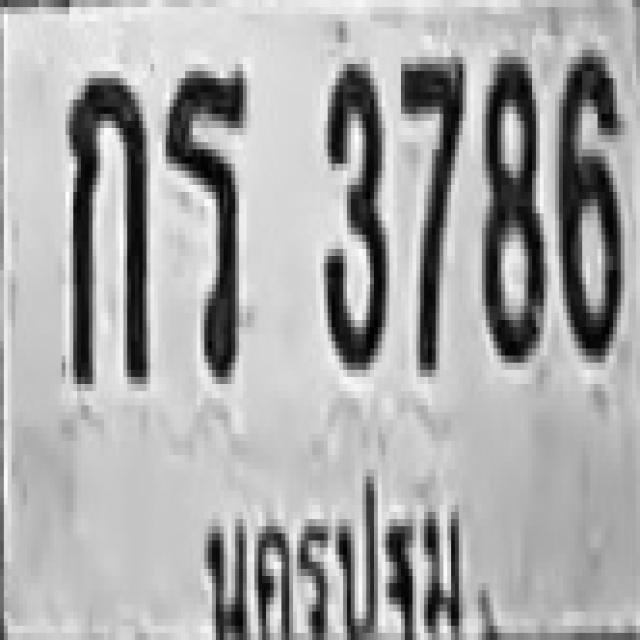3: (320, 57, 386, 363)
6: (555, 42, 617, 356)
7: (397, 50, 463, 370)
8: (478, 49, 540, 356)
A01: (66, 71, 146, 384)
A35: (160, 64, 245, 377)
NPT: (196, 473, 469, 640)
